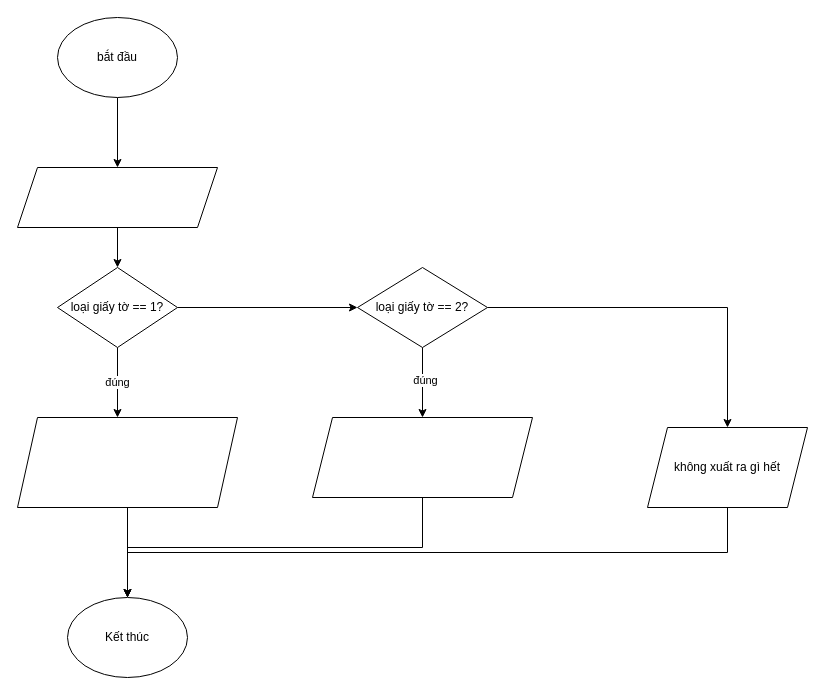
The diagram is 825 pixels wide and 695 high, and some of its shapes have lost their labels. Each missing label, with the centre of its shape:
"nhập loại giấy tờ và số trang từ bàn phím" belongs at (x=117, y=197).
"xuất ra màn hình số lượng giấy cần dùng = số trang" belongs at (x=127, y=462).
"xuất ra màn hình số lượng giấy cần dùng = số trang / 2" belongs at (x=422, y=457).
